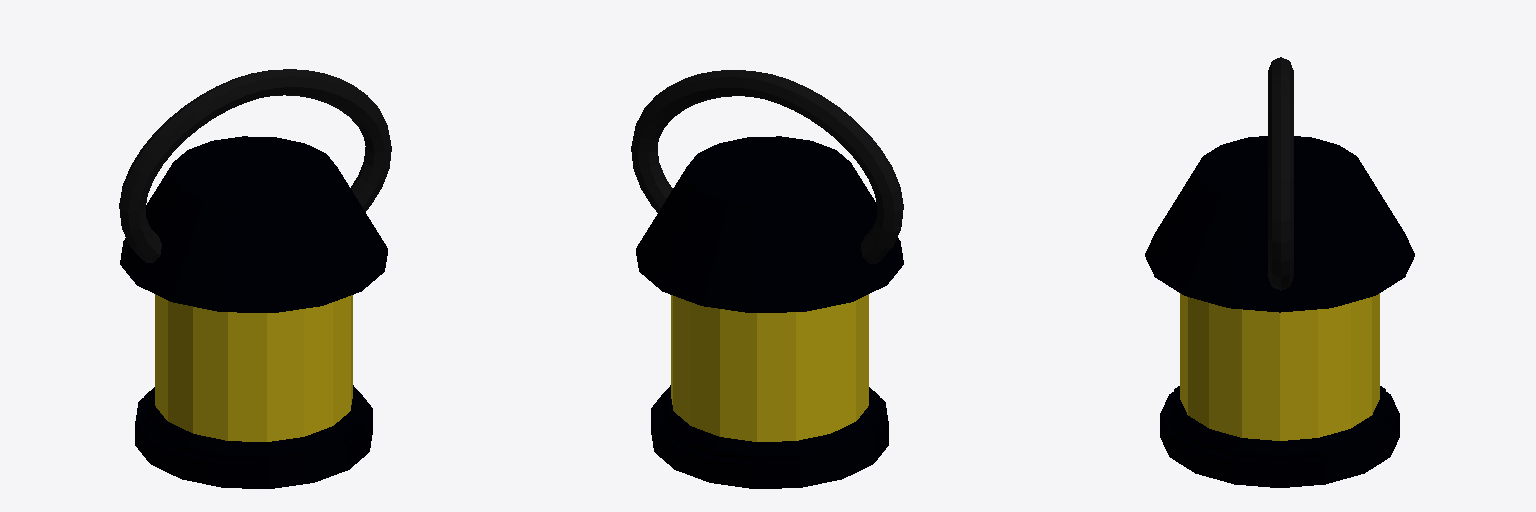
File: lamp.obj
The picture shows the model from 3 angles: view 1: azimuth 30°, elevation 25°; view 2: azimuth 150°, elevation 25°; view 3: azimuth 270°, elevation 25°; orthographic projection.
Parts seen in each view (by area): view 1: Cylinder, Cylinder.002; view 2: Cylinder, Cylinder.002; view 3: Cylinder, Cylinder.002.
Part boxes in pixels (bbox=[...]): Cylinder: bbox=[120, 136, 387, 488]; Cylinder.002: bbox=[119, 69, 391, 262]; Cylinder: bbox=[636, 136, 903, 488]; Cylinder.002: bbox=[631, 70, 903, 263]; Cylinder: bbox=[1145, 136, 1414, 487]; Cylinder.002: bbox=[1268, 57, 1293, 290].
Size of the model in its own units: 3.13 by 4.04 by 2.71.